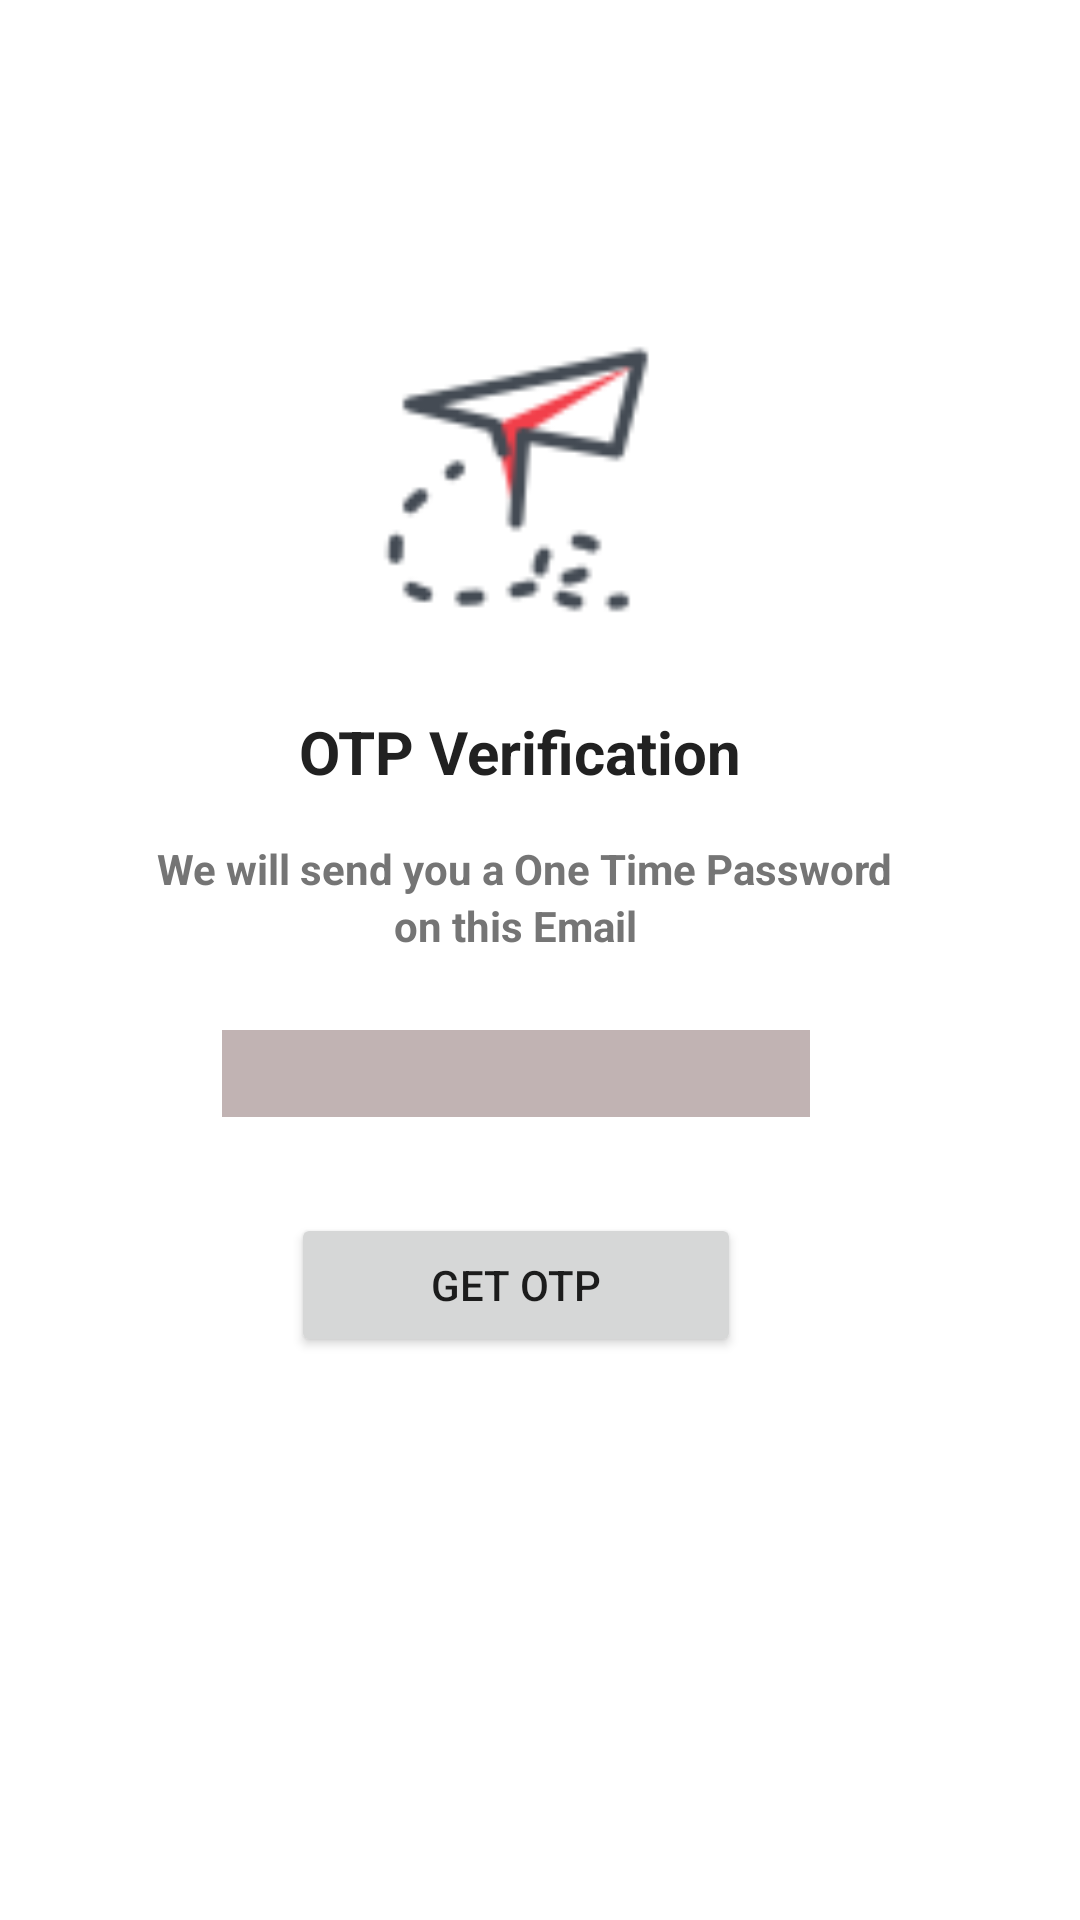

Point at icon controls on the screen. Image size 1080 × 1920, points as [x,y].
paper plane: [517,479]
